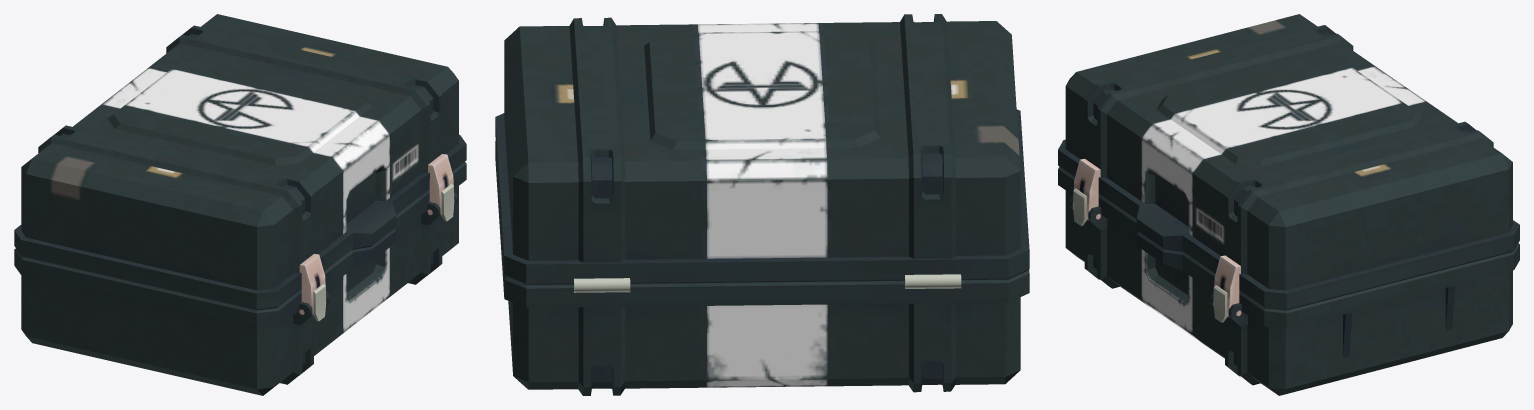
File: AirSupply (2).fbx
3 renders of one model, left to right at view 1: azimuth 30°, elevation 25°; view 2: azimuth 150°, elevation 25°; view 3: azimuth 270°, elevation 25°, orthographic. The views are drawn at different scales.
Parts seen in each view (by area): view 1: Box_upper, Crate, Lock_L_01 1, Lock_R_01 1, Lock_L_02 1, Lock_R_02 1; view 2: Box_upper, Crate; view 3: Box_upper, Crate, Lock_R_01 1, Lock_L_01 1, Lock_R_02 1, Lock_L_02 1.
Boxes of the visible parts, bbox=[...] form: Box_upper: bbox=[14, 14, 466, 310]; Crate: bbox=[14, 162, 466, 395]; Lock_L_01 1: bbox=[299, 254, 326, 314]; Lock_R_01 1: bbox=[428, 154, 454, 214]; Lock_L_02 1: bbox=[312, 284, 325, 321]; Lock_R_02 1: bbox=[441, 184, 453, 221]; Box_upper: bbox=[495, 14, 1029, 292]; Crate: bbox=[495, 141, 1029, 395]; Box_upper: bbox=[1058, 14, 1519, 310]; Crate: bbox=[1058, 167, 1519, 395]; Lock_R_01 1: bbox=[1213, 255, 1240, 316]; Lock_L_01 1: bbox=[1073, 158, 1100, 219]; Lock_R_02 1: bbox=[1213, 285, 1227, 322]; Lock_L_02 1: bbox=[1073, 188, 1087, 225].
Bounding box in the file's own units: 1.61 × 0.682 × 1.47.
Materials: 2 (2 with a texture image).
